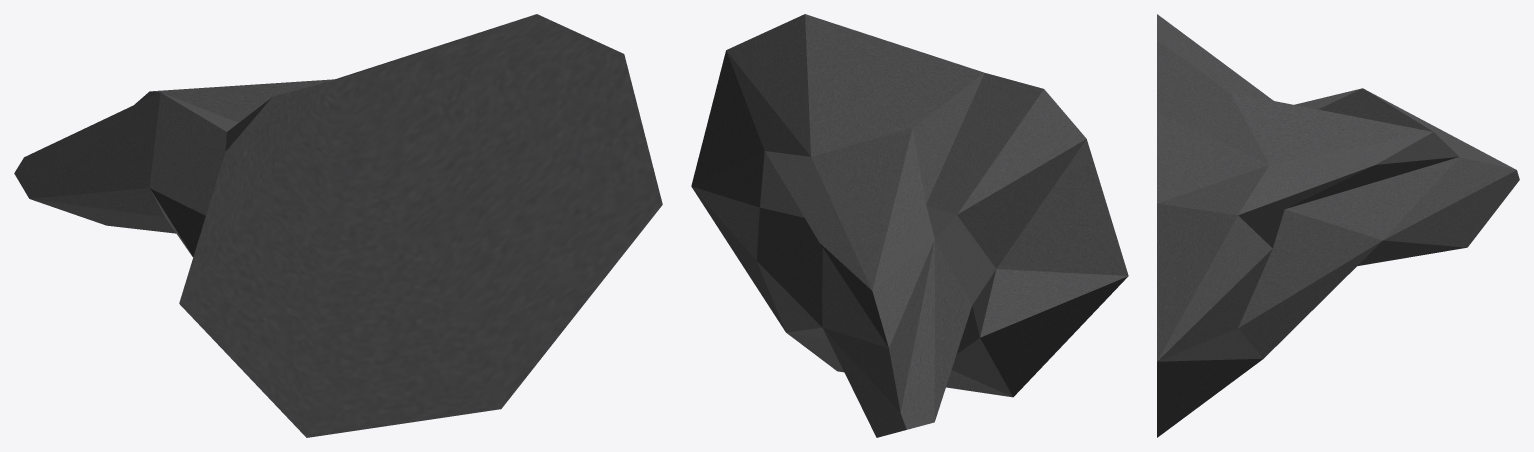
File: all_share_rock_1.FBX
The picture shows the model from 3 angles, left to right: view 1: azimuth 30°, elevation 25°; view 2: azimuth 150°, elevation 25°; view 3: azimuth 270°, elevation 25°; orthographic projection. The views are drawn at different scales.
Visible parts, largest first — view 1: desert_rock_1; view 2: desert_rock_1; view 3: desert_rock_1.
Part boxes in pixels (x1=…): desert_rock_1: x1=14, y1=14, x2=662, y2=437; desert_rock_1: x1=691, y1=14, x2=1128, y2=437; desert_rock_1: x1=1157, y1=14, x2=1519, y2=437.
Bounding box in the file's own units: 346 × 264 × 254.
